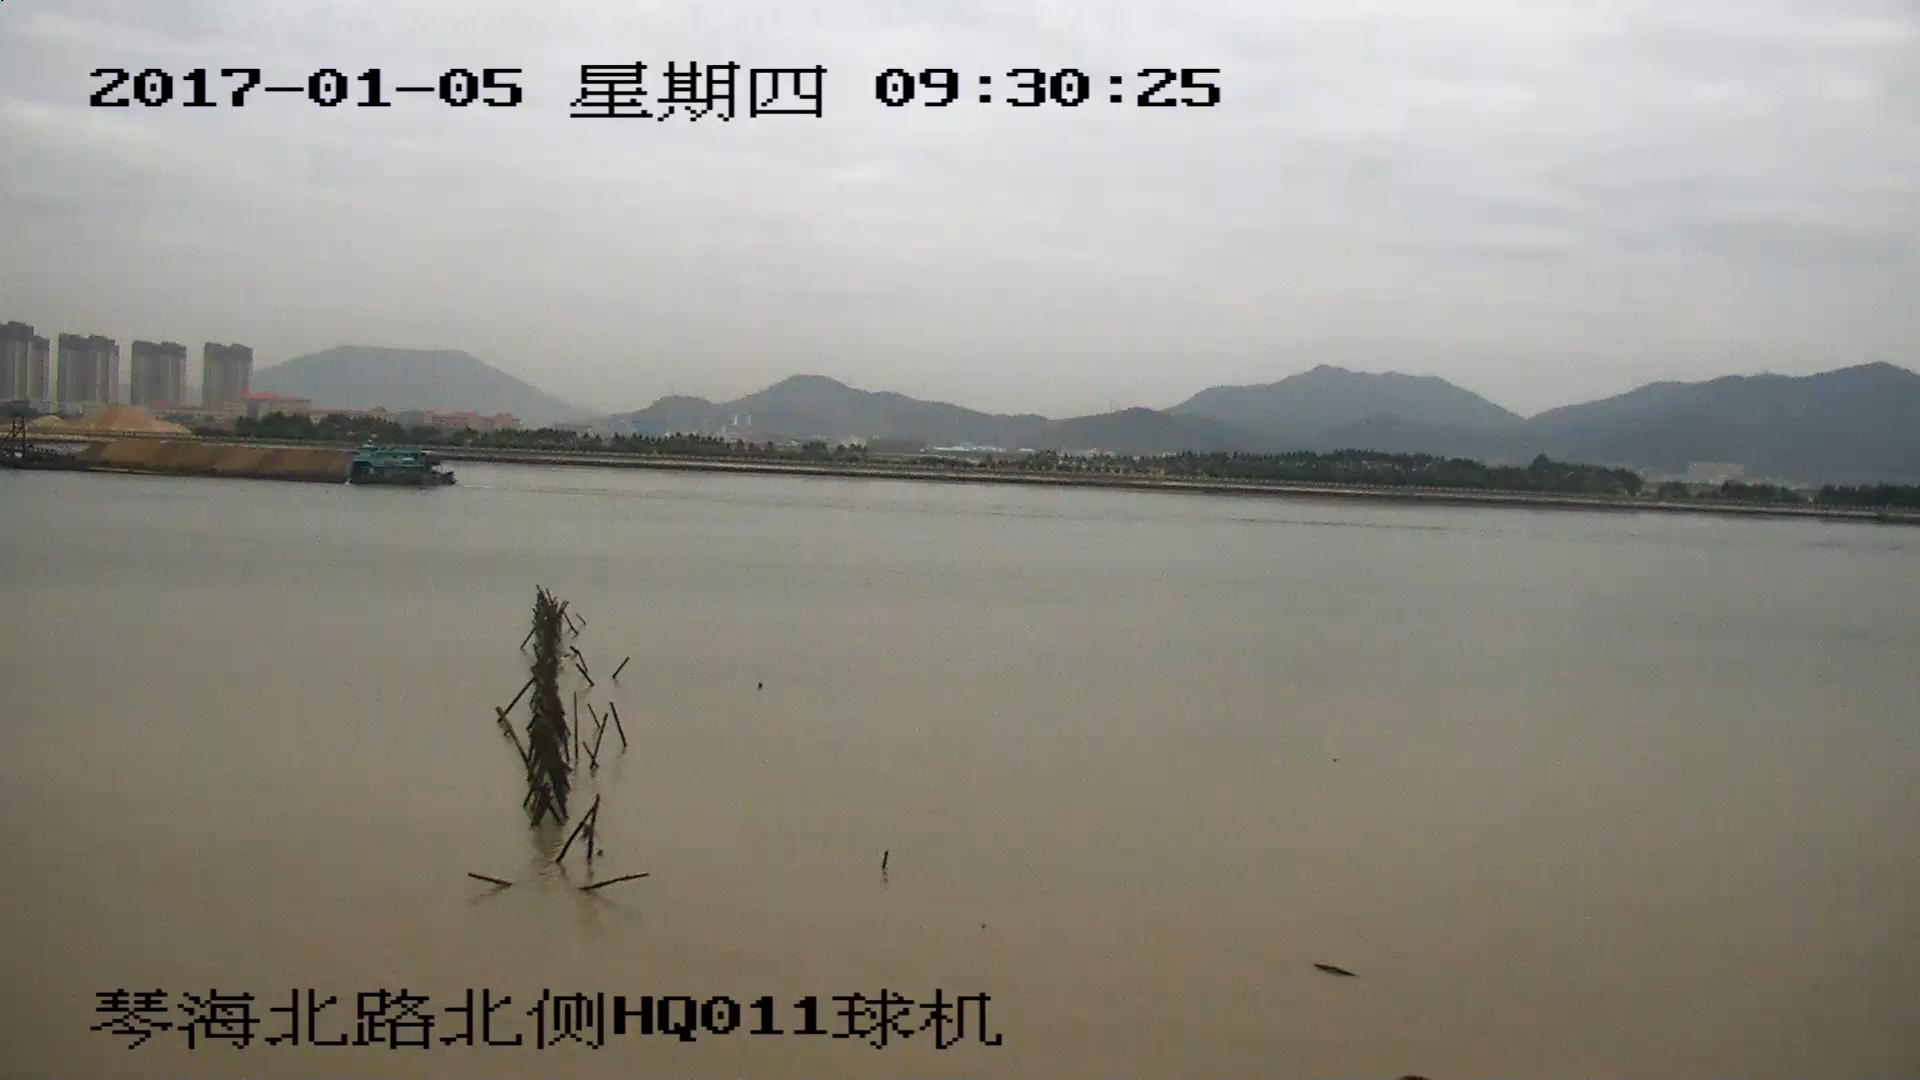ore carrier: (1, 428, 448, 486)
